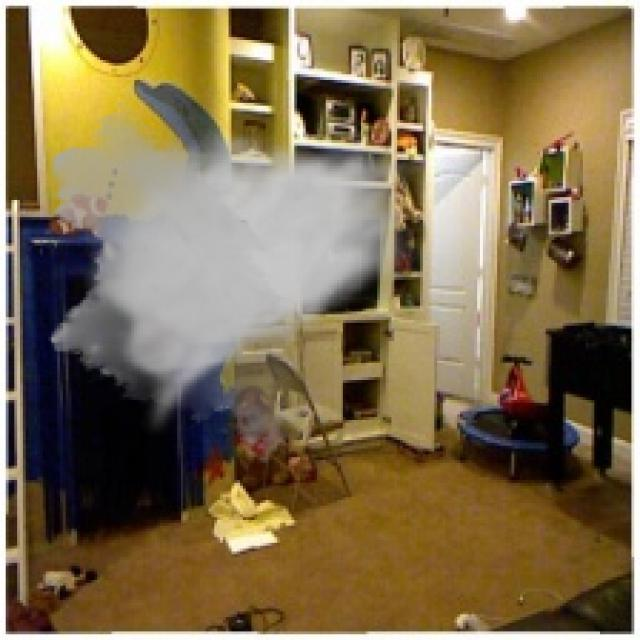smoke: (40, 100, 423, 466)
